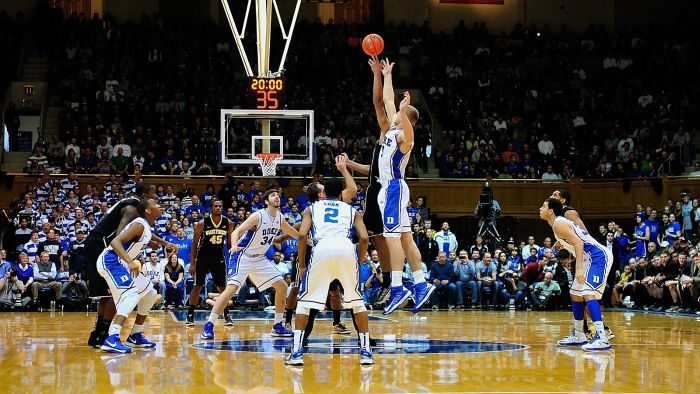ball: (365, 35, 382, 57)
player: (370, 74, 435, 308), (542, 201, 625, 355), (88, 200, 164, 355), (213, 190, 287, 349), (306, 184, 371, 365)
